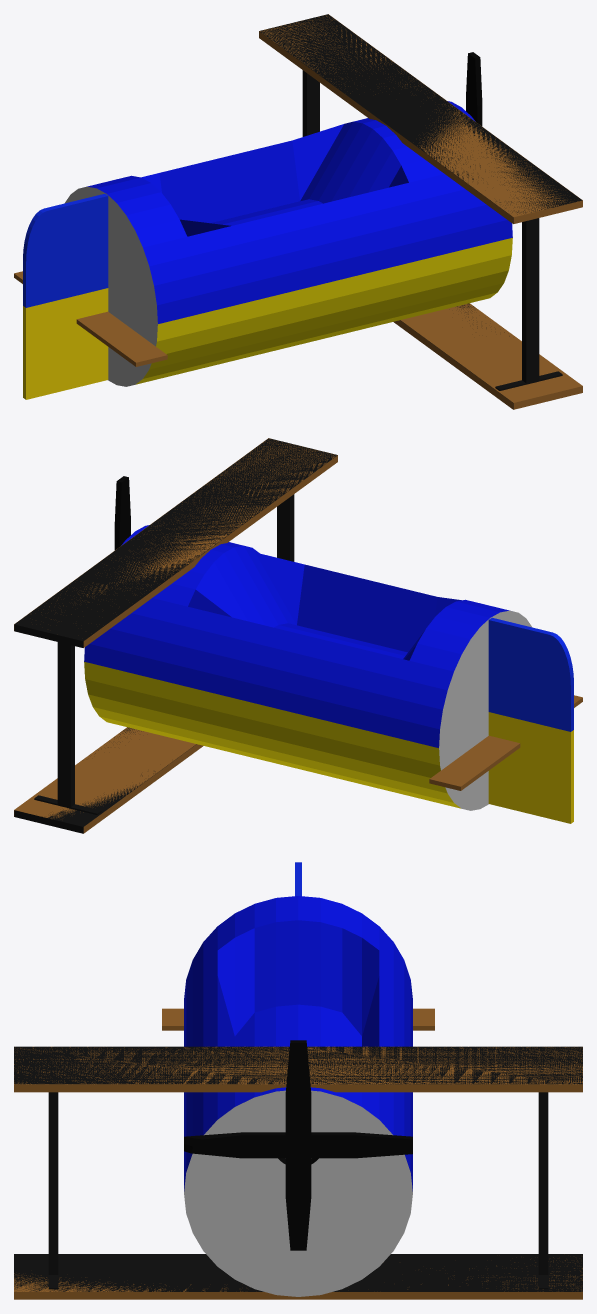
The model's file is DuchKieva1.glb.
The picture shows the model from 3 angles, top to bottom: view 1: azimuth 30°, elevation 25°; view 2: azimuth 150°, elevation 25°; view 3: azimuth 270°, elevation 25°; orthographic projection. The views are drawn at different scales.
Visible parts, largest first — view 1: Válec, Krychle.002, Krychle, Krychle.003, Krychle.001; view 2: Válec, Krychle.002, Krychle, Krychle.003, Krychle.001; view 3: Válec, Krychle.002, Krychle.001, Krychle.003.
Boxes of the visible parts, x1=… form: Válec: x1=64, y1=101, x2=512, y2=386; Krychle.002: x1=259, y1=14, x2=582, y2=409; Krychle: x1=23, y1=193, x2=108, y2=399; Krychle.003: x1=14, y1=271, x2=167, y2=366; Krychle.001: x1=466, y1=52, x2=482, y2=126; Válec: x1=84, y1=525, x2=532, y2=810; Krychle.002: x1=14, y1=438, x2=337, y2=833; Krychle: x1=488, y1=617, x2=573, y2=823; Krychle.003: x1=429, y1=695, x2=582, y2=790; Krychle.001: x1=114, y1=476, x2=130, y2=550; Válec: x1=184, y1=896, x2=412, y2=1296; Krychle.002: x1=14, y1=1046, x2=582, y2=1299; Krychle.001: x1=184, y1=1040, x2=412, y2=1250; Krychle.003: x1=162, y1=1008, x2=434, y2=1030.
Bounding box in the file's own units: 5.1 × 2.58 × 4.97.
